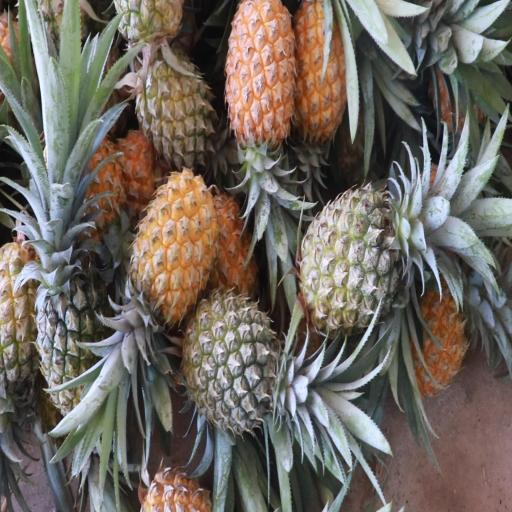------------------------------: (0, 236, 51, 469)
Pineapple - v8 v1: (113, 167, 218, 353), (224, 5, 296, 218), (296, 0, 351, 163)
